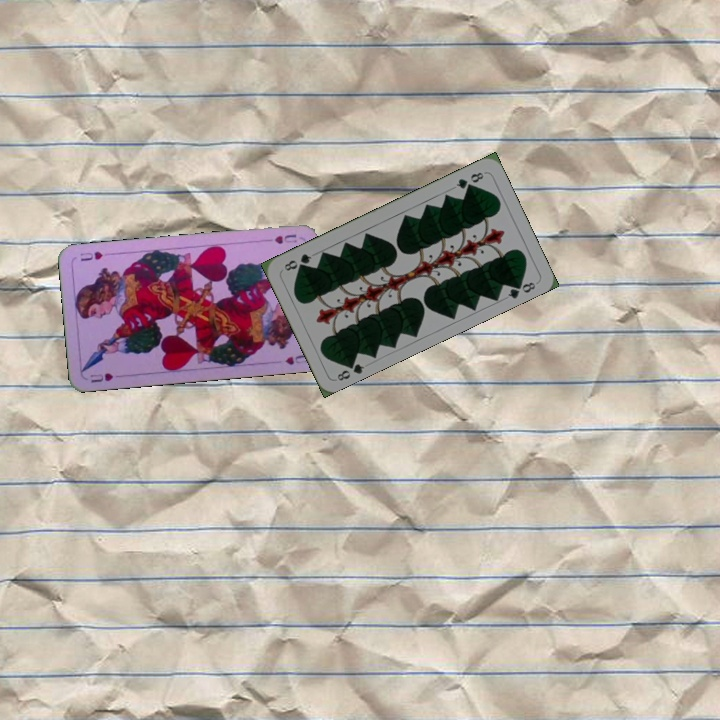G8: (333, 356, 367, 384), (452, 168, 487, 191)
HU: (260, 230, 299, 247), (86, 369, 115, 385)
